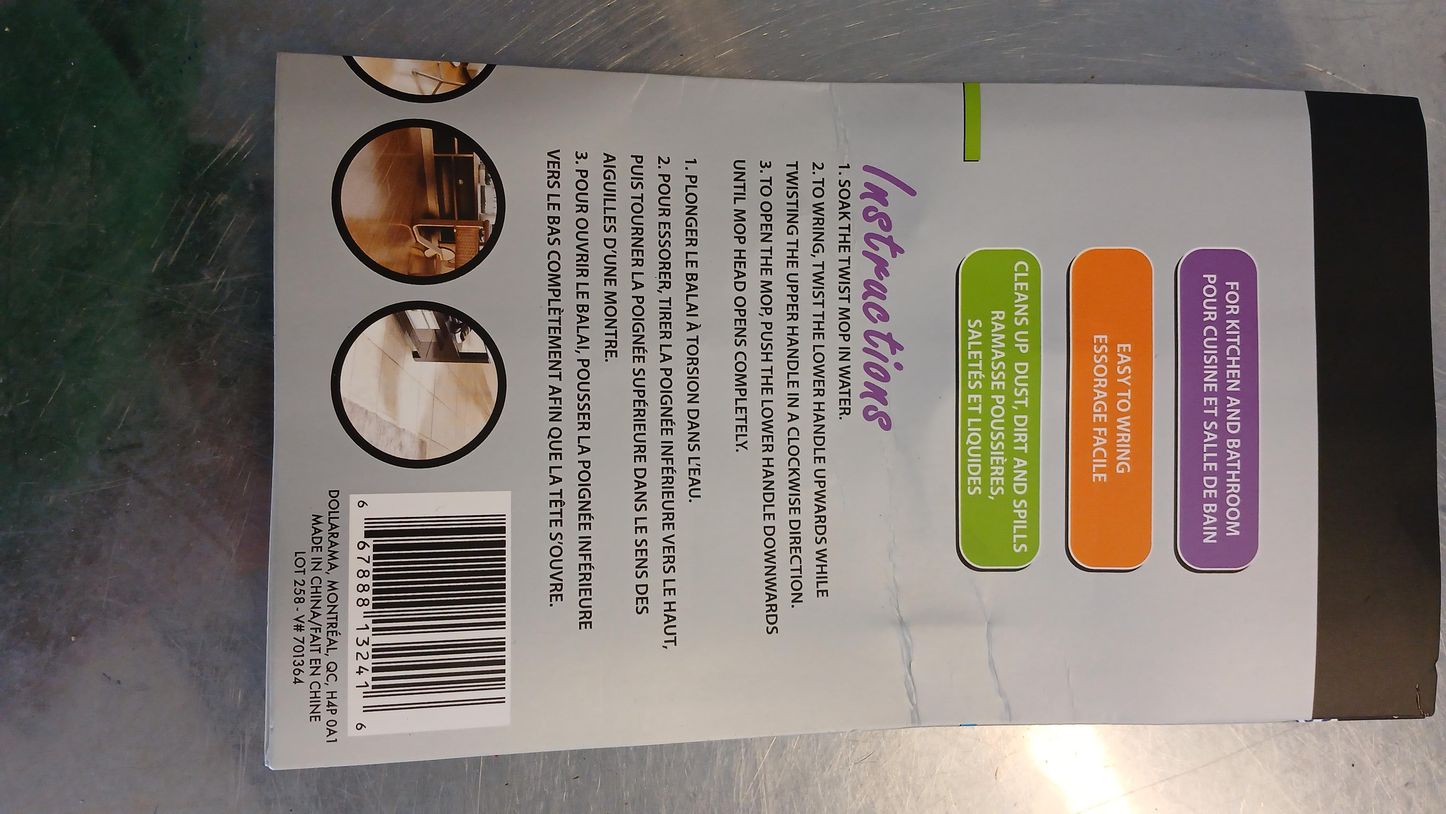Papel: (267, 51, 1445, 773)
